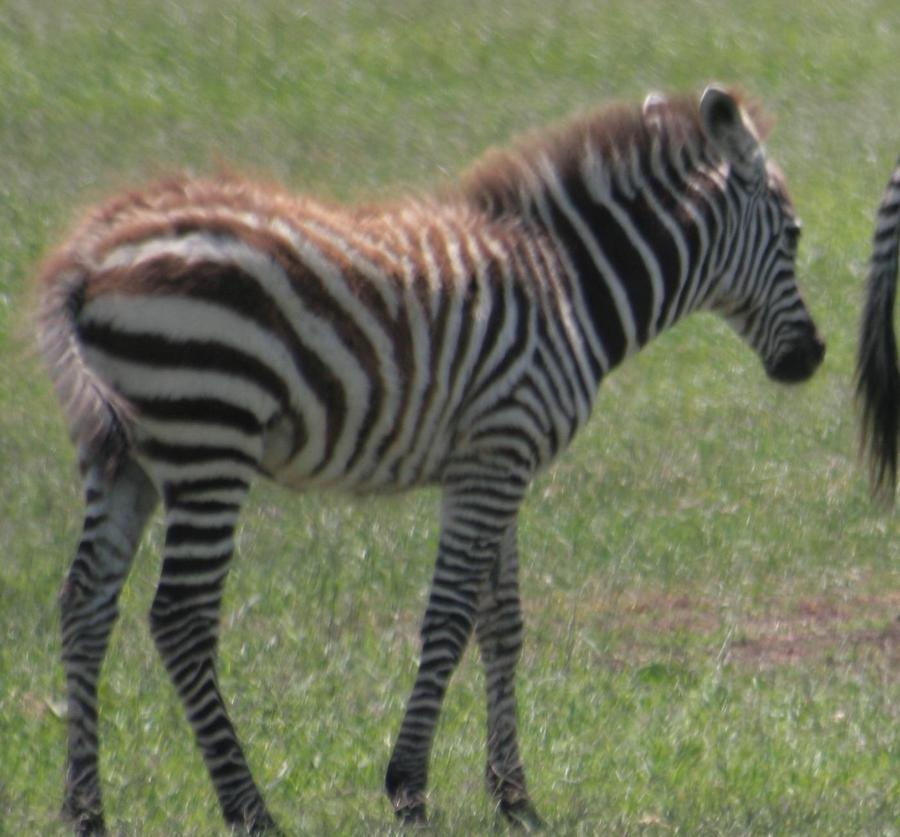zebra_plains: (81, 161, 611, 539)
